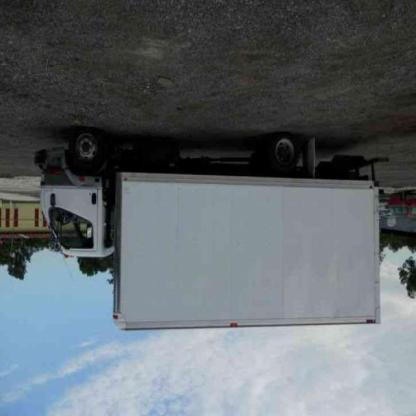truck: (31, 129, 382, 334)
